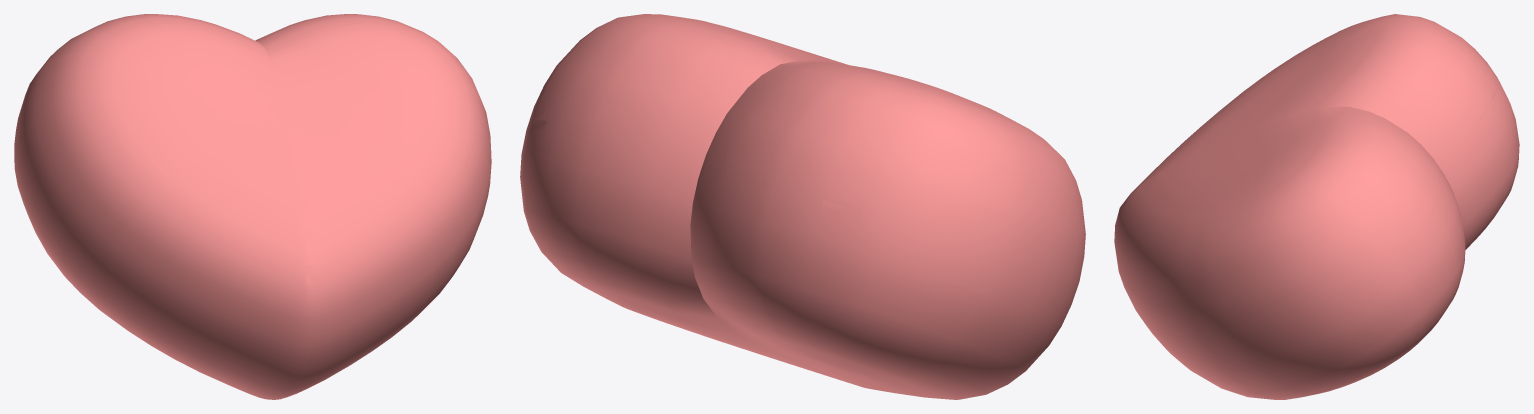
The picture shows the model from 3 angles, left to right: view 1: azimuth 30°, elevation 25°; view 2: azimuth 150°, elevation 25°; view 3: azimuth 270°, elevation 25°; orthographic projection. The views are drawn at different scales.
Parts seen in each view (by area): view 1: Layer0_001; view 2: Layer0_001; view 3: Layer0_001.
Part boxes in pixels (x1,y1,x2,y2): Layer0_001: (14, 14, 491, 399); Layer0_001: (520, 14, 1085, 399); Layer0_001: (1114, 14, 1519, 399).
Bounding box in the file's own units: 156 × 113 × 133.
